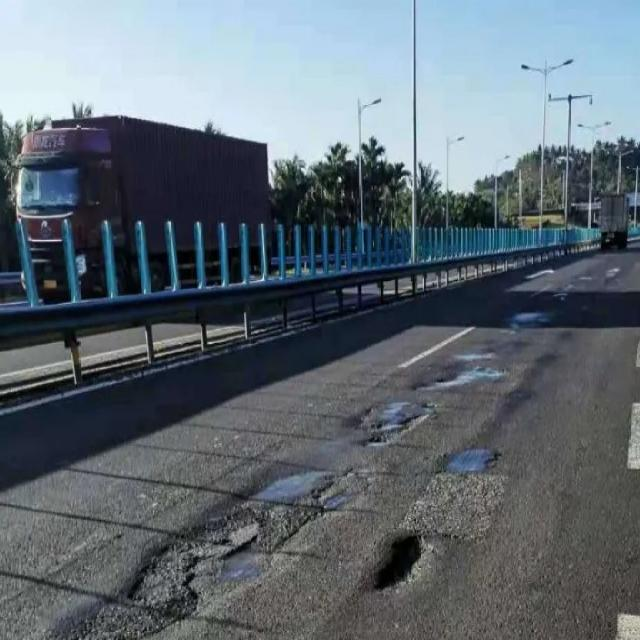Pothole: (132, 539, 266, 608), (253, 461, 358, 516), (358, 398, 437, 451), (375, 530, 430, 594), (439, 360, 505, 387), (452, 444, 502, 474)
